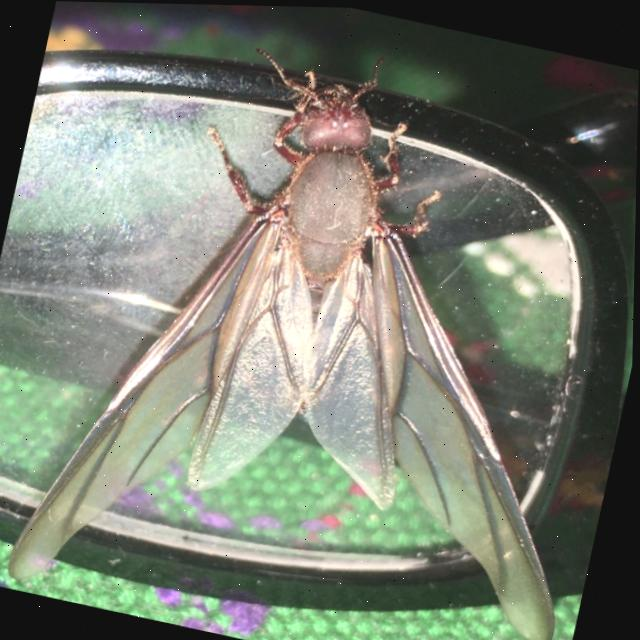Alive-Female-Alate: (6, 0, 640, 640)
